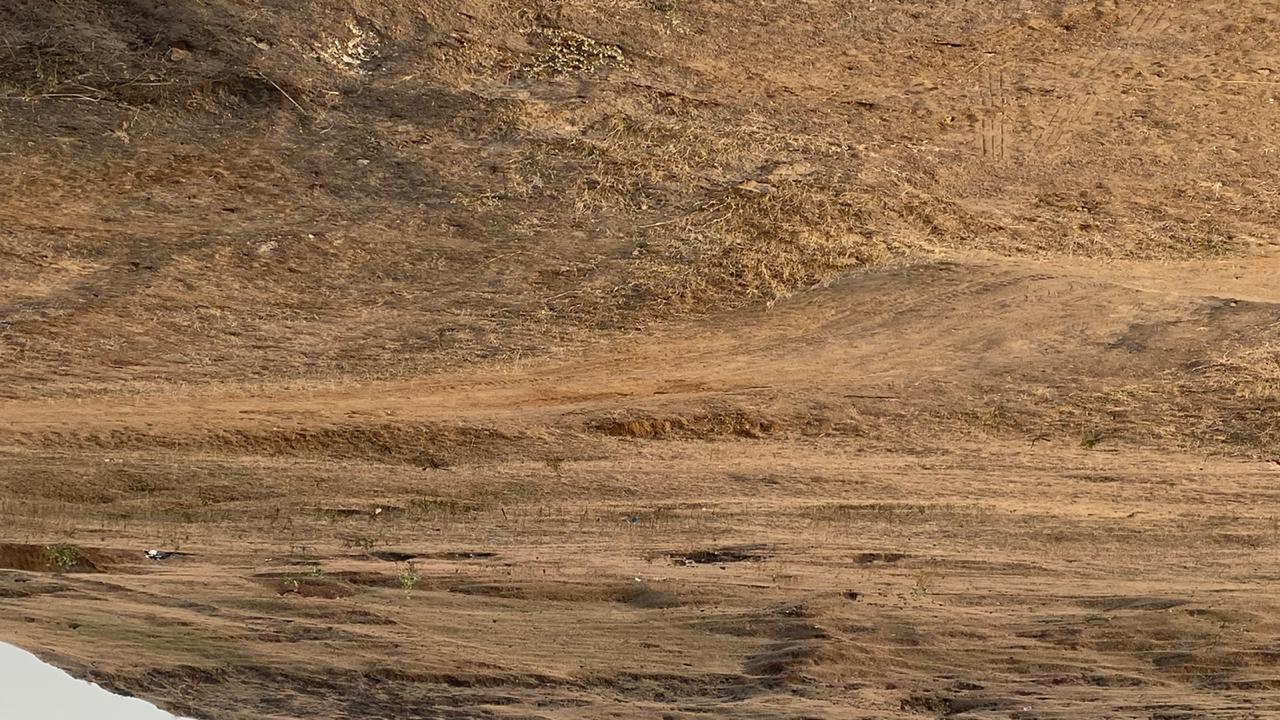vehicle_track: (0, 259, 1177, 428)
